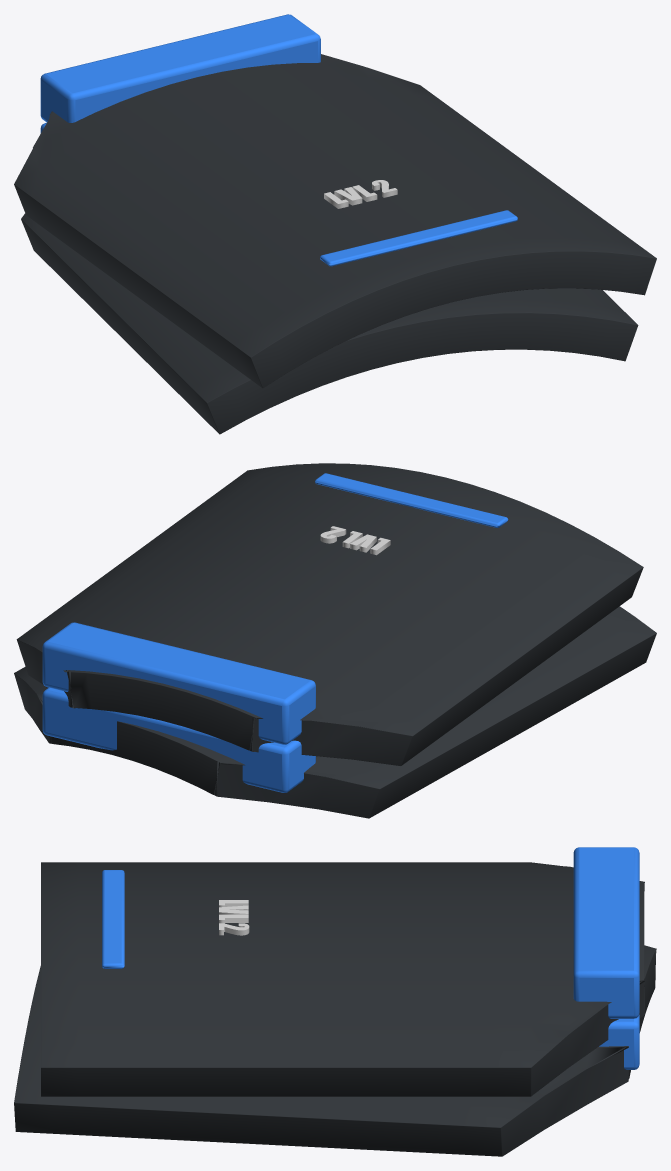
File: placa_2.glb
The picture shows the model from 3 angles, top to bottom: view 1: azimuth 30°, elevation 25°; view 2: azimuth 150°, elevation 25°; view 3: azimuth 270°, elevation 25°; orthographic projection. The views are drawn at different scales.
Visible parts, largest first — view 1: Grid; view 2: Grid; view 3: Grid.
Part boxes in pixels (x1,y1,x2,y2): Grid: (14, 14, 656, 434); Grid: (14, 463, 656, 818); Grid: (14, 847, 656, 1156).
Bounding box in the file's own units: 0.2868 × 0.0832 × 0.341.
